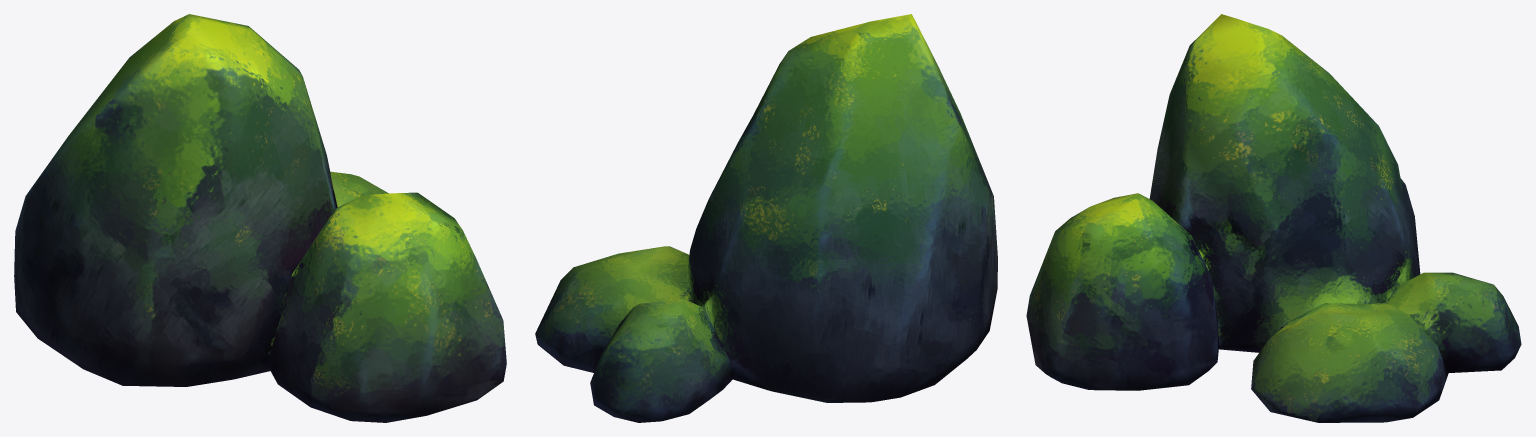
Rendered from ghibli-rock.glb.
3 renders of one model, left to right at view 1: azimuth 30°, elevation 25°; view 2: azimuth 150°, elevation 25°; view 3: azimuth 270°, elevation 25°, orthographic. The views are drawn at different scales.
Visible parts, largest first — view 1: Rocks_v02_LP2:Group11652; view 2: Rocks_v02_LP2:Group11652; view 3: Rocks_v02_LP2:Group11652.
Part boxes in pixels (x1,y1,x2,y2): Rocks_v02_LP2:Group11652: (14, 14, 506, 422); Rocks_v02_LP2:Group11652: (535, 14, 997, 422); Rocks_v02_LP2:Group11652: (1026, 14, 1521, 422).
Bounding box in the file's own units: 0.000164 × 0.00013 × 0.0002.
1 material, 1 textured.
